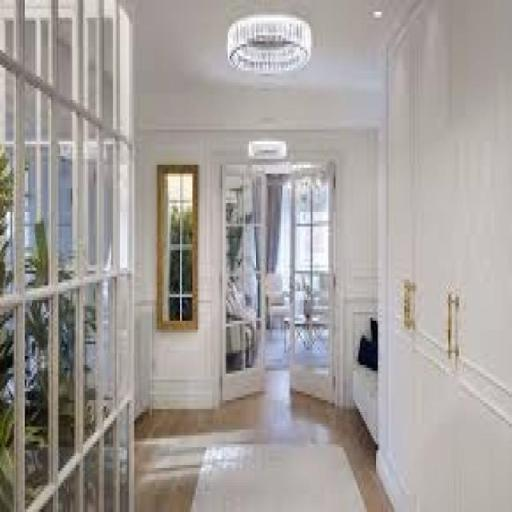door: (385, 0, 512, 512)
